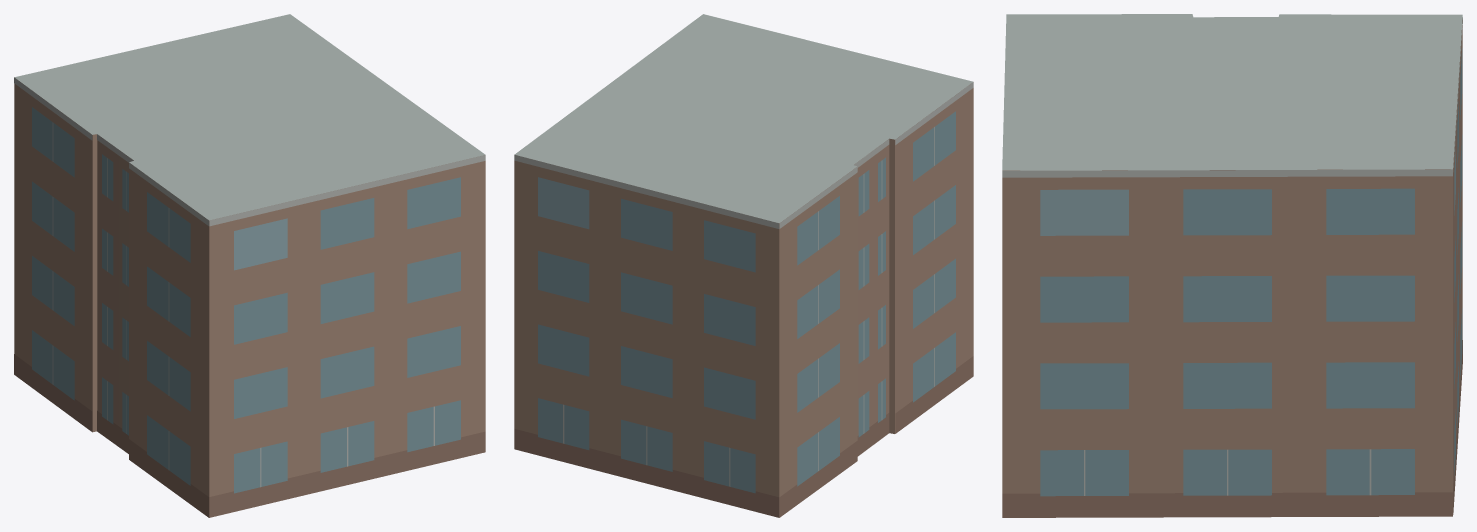
Rendered from survey-upis-32638600.glb.
The picture shows the model from 3 angles, left to right: view 1: azimuth 30°, elevation 25°; view 2: azimuth 150°, elevation 25°; view 3: azimuth 270°, elevation 25°; orthographic projection. The views are drawn at different scales.
Parts seen in each view (by area): view 1: survey-upis-32638600.tmp; view 2: survey-upis-32638600.tmp; view 3: survey-upis-32638600.tmp.
Part boxes in pixels (x1,y1,x2,y2): survey-upis-32638600.tmp: (14,14,485,517); survey-upis-32638600.tmp: (514,14,973,517); survey-upis-32638600.tmp: (1002,14,1462,517).
Bounding box in the file's own units: 11.83 × 12.2 × 14.68.
